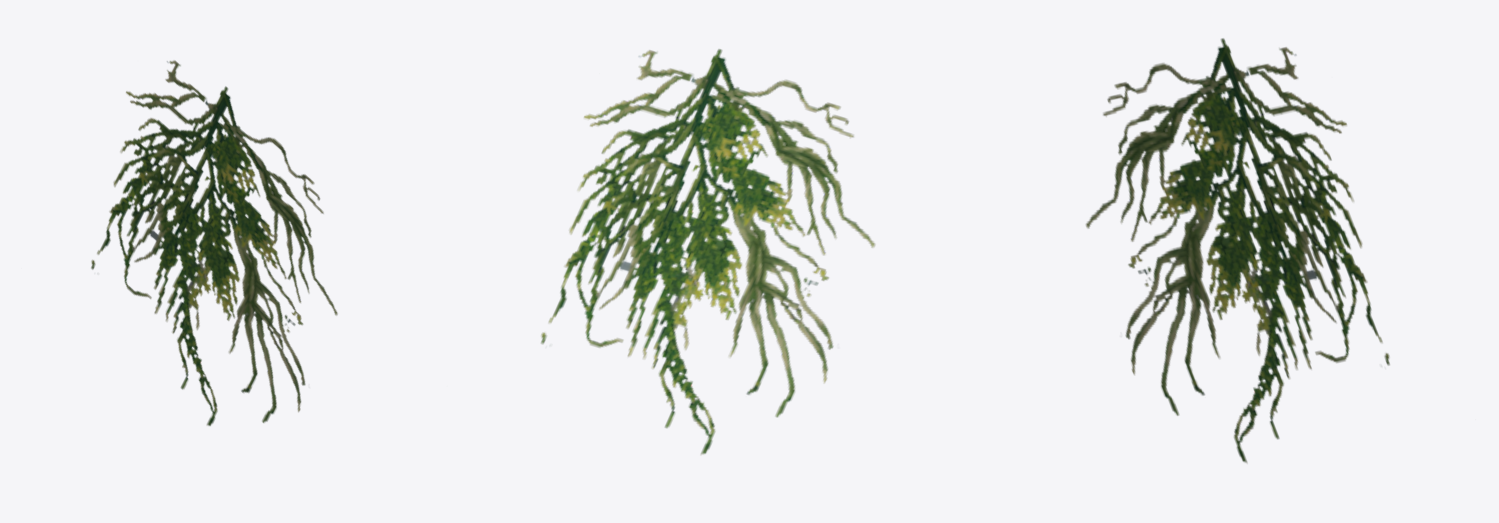
File: Forest_1_FallenTree_Liquen.gltf
The picture shows the model from 3 angles, left to right: view 1: azimuth 90°, elevation 25°; view 2: azimuth 150°, elevation 25°; view 3: azimuth 270°, elevation 25°; orthographic projection. The views are drawn at different scales.
Visible parts, largest first — view 1: Forest_1_FallenTree_Liquen; view 2: Forest_1_FallenTree_Liquen; view 3: Forest_1_FallenTree_Liquen.
Boxes of the visible parts, x1=… form: Forest_1_FallenTree_Liquen: x1=91, y1=60, x2=337, y2=425; Forest_1_FallenTree_Liquen: x1=541, y1=49, x2=875, y2=454; Forest_1_FallenTree_Liquen: x1=1086, y1=38, x2=1389, y2=462.
Size of the model in its own units: 3.76 by 6.24 by 4.97.
1 material, 1 textured.
